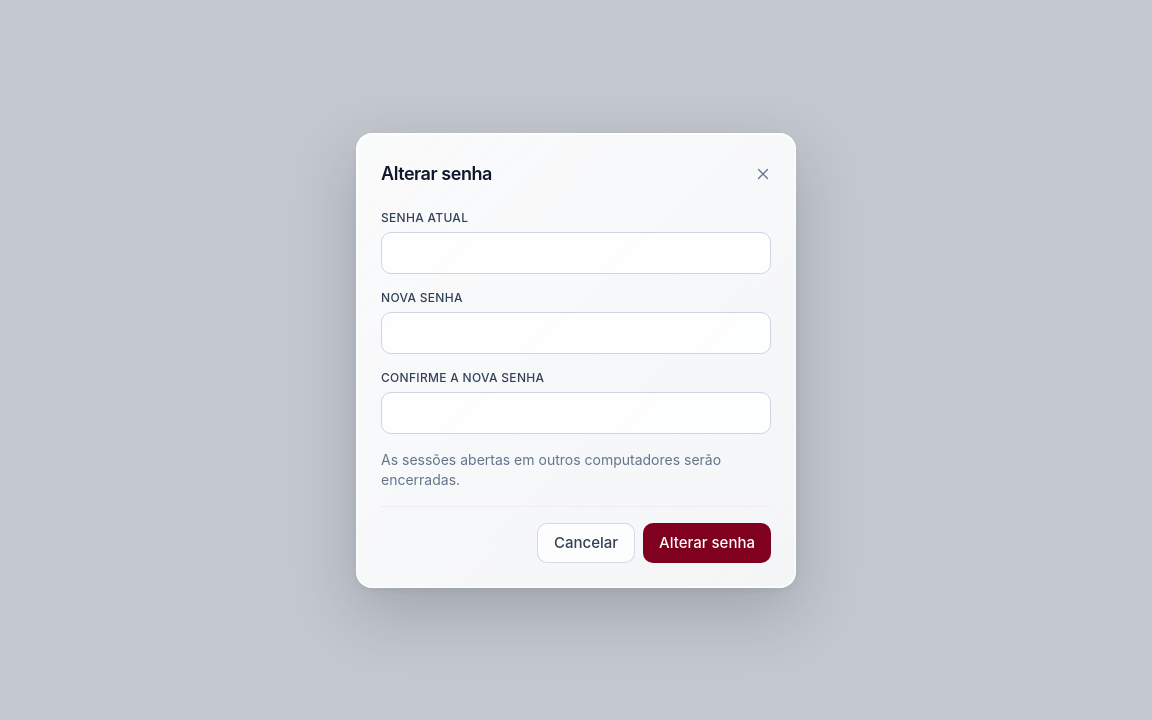
USU-07 — alterar senha logado › senha atual errada vai para o campo e o modal continua aberto
This screenshot has width=1152, height=720.
In the password field labelled "Senha atual": (576, 252) [381,232,771,274], type "senha-errada"
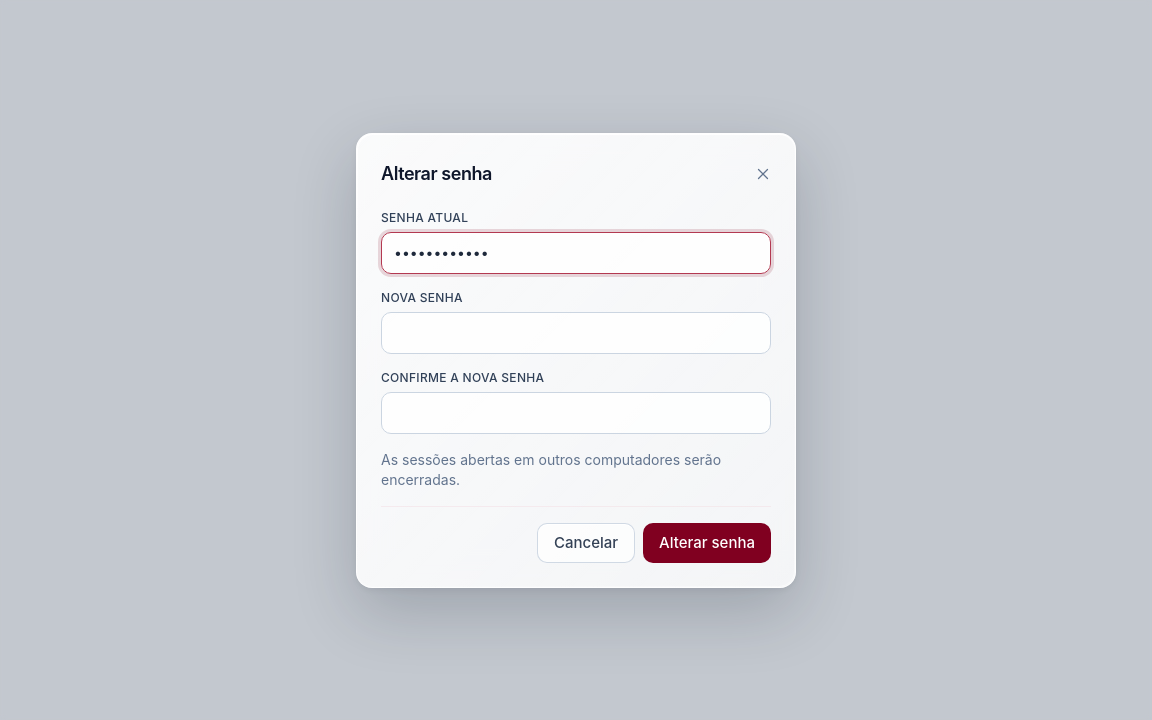
In the password field labelled "Nova senha": (576, 332) [381,312,771,354], type "senha-nova-123"
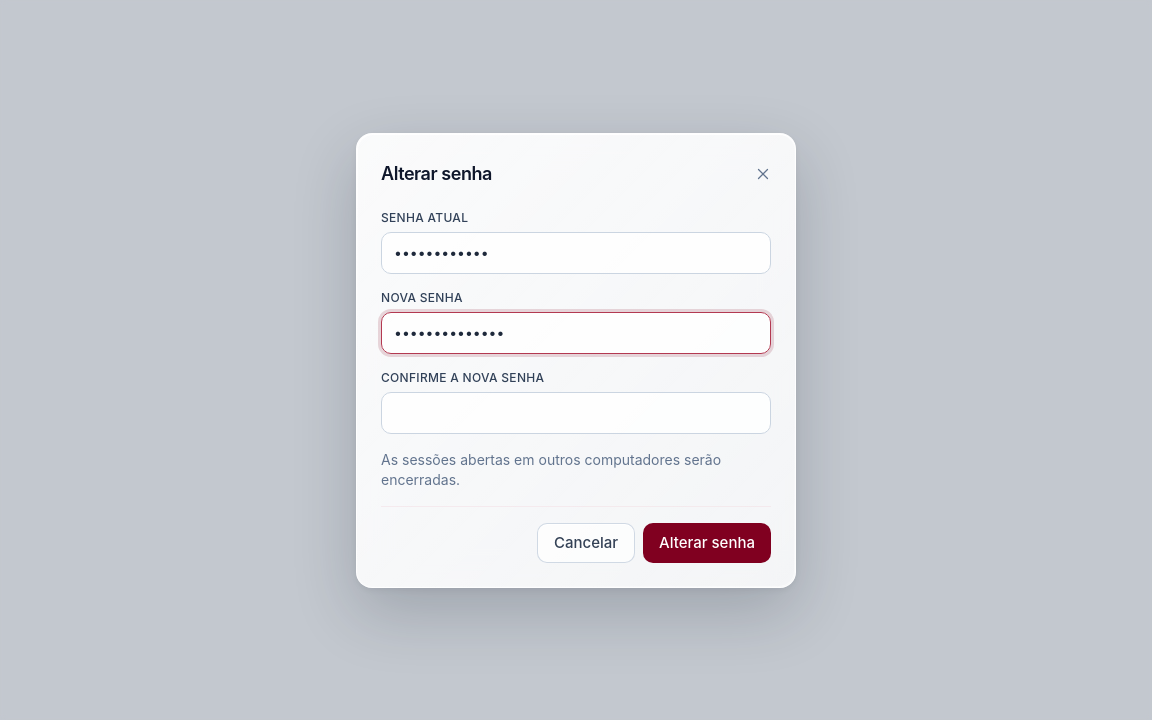
In the password field labelled "Confirme a nova senha": (576, 412) [381,392,771,434], type "senha-nova-123"
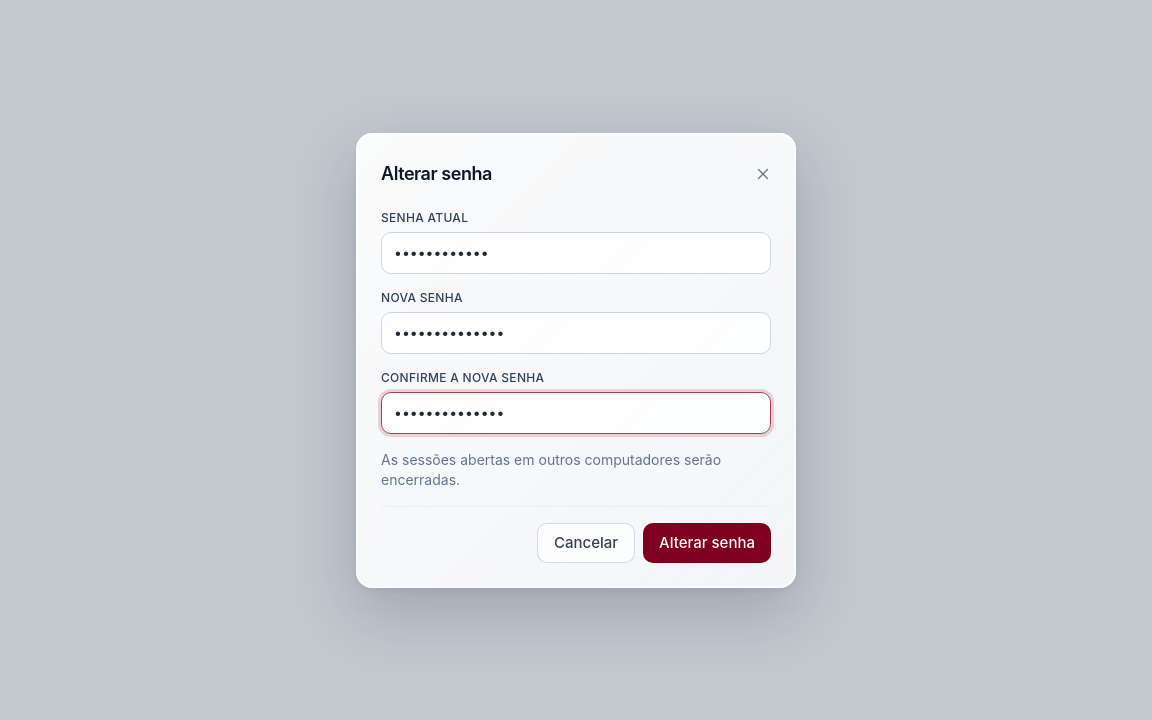
Click the button "Alterar senha": (707, 542) [643,522,771,562]
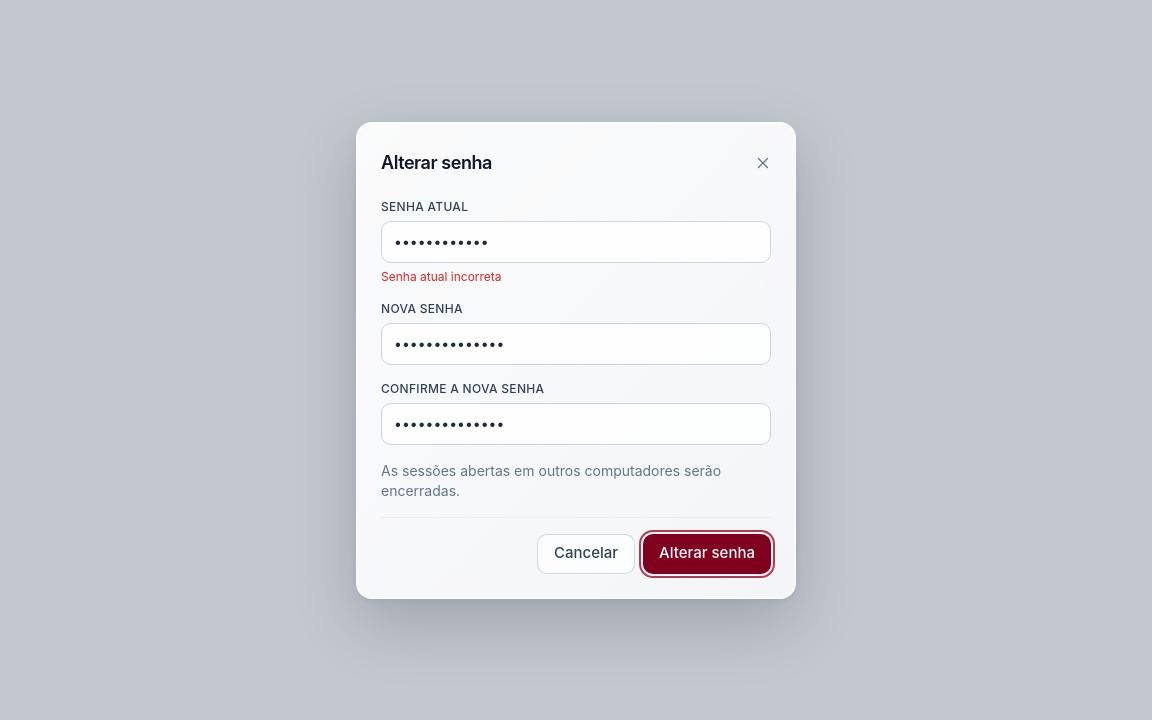
Now the text "Senha atual incorreta" is shown, box [381,268,502,284]
